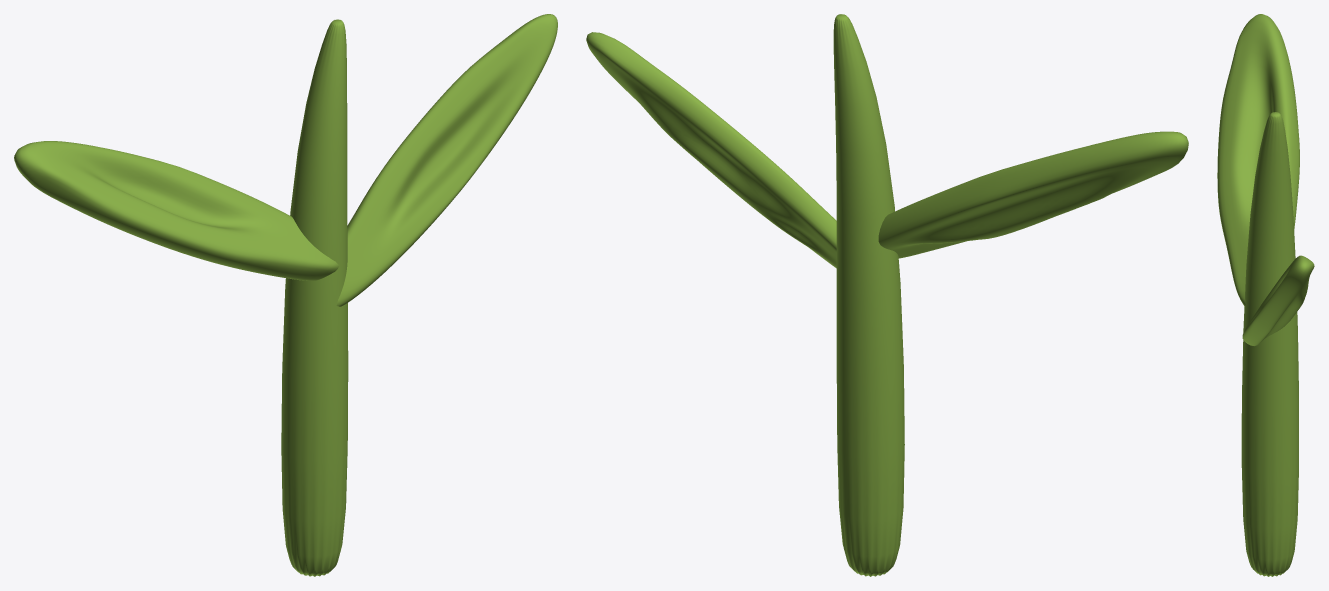
The model's file is plant.fbx.
3 renders of one model, left to right at view 1: azimuth 30°, elevation 25°; view 2: azimuth 150°, elevation 25°; view 3: azimuth 270°, elevation 25°, orthographic. The views are drawn at different scales.
Visible parts, largest first — view 1: pDisc10; view 2: pDisc10; view 3: pDisc10.
Part boxes in pixels (box(x1,y1,x2,y2)): pDisc10: box(14, 14, 557, 576); pDisc10: box(586, 14, 1188, 576); pDisc10: box(1217, 14, 1314, 576).
Size of the model in its own units: 30.85 by 28.15 by 5.28.
